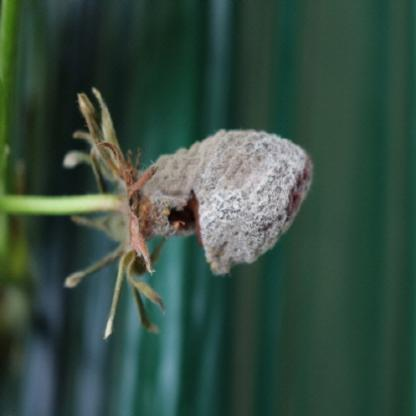Strawberry_Gray_Mold: (63, 89, 315, 340)
